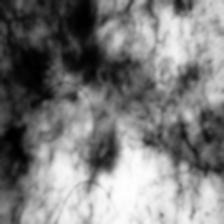Potentially Malignant Skin Tumors: (0, 1, 94, 86), (74, 128, 118, 176), (0, 135, 30, 183)
